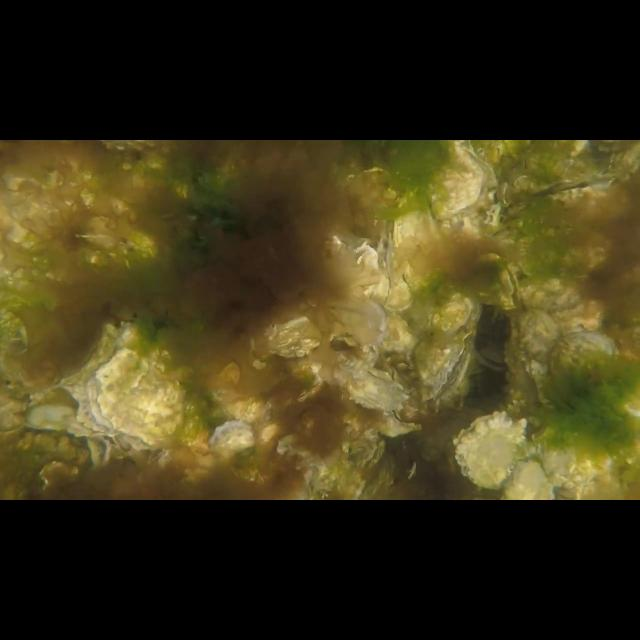Oyster-Closed: (86, 347, 182, 448), (549, 330, 640, 415), (532, 426, 612, 488), (428, 140, 484, 220), (250, 305, 332, 359), (393, 209, 445, 293), (516, 308, 560, 402), (333, 362, 409, 414), (514, 275, 584, 313), (386, 242, 414, 312)
Oyster-Open: (454, 409, 528, 488), (417, 330, 473, 400), (528, 172, 618, 204), (436, 290, 482, 336), (212, 418, 256, 452), (378, 408, 422, 438), (496, 263, 522, 309)
